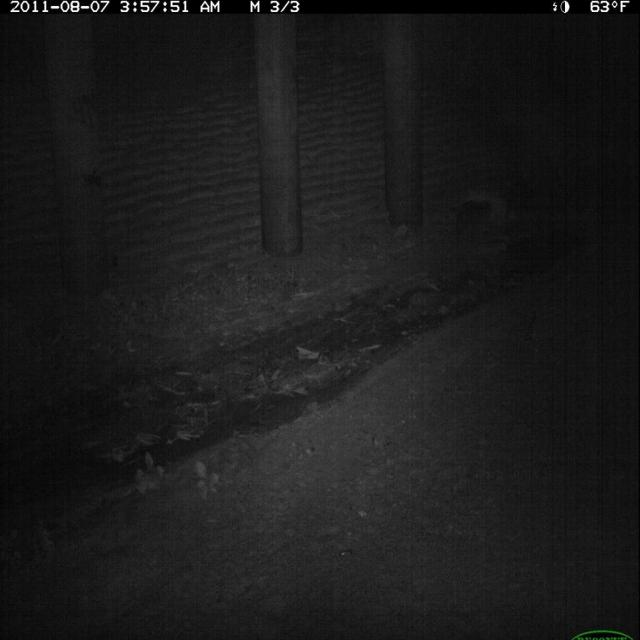raccoon: (449, 194, 501, 248), (503, 187, 539, 223)
